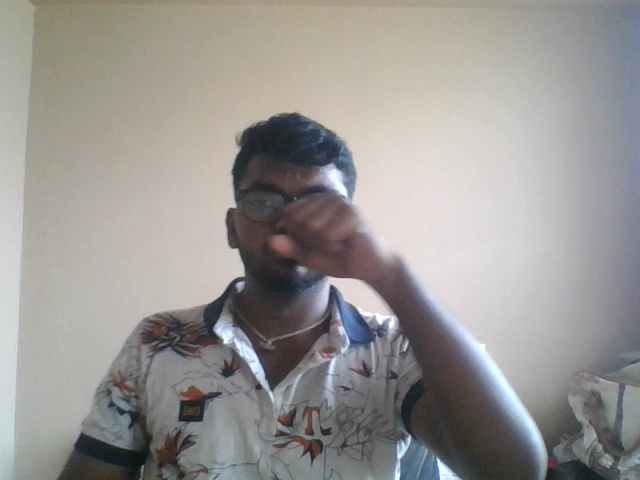Yes: (253, 180, 411, 342)
